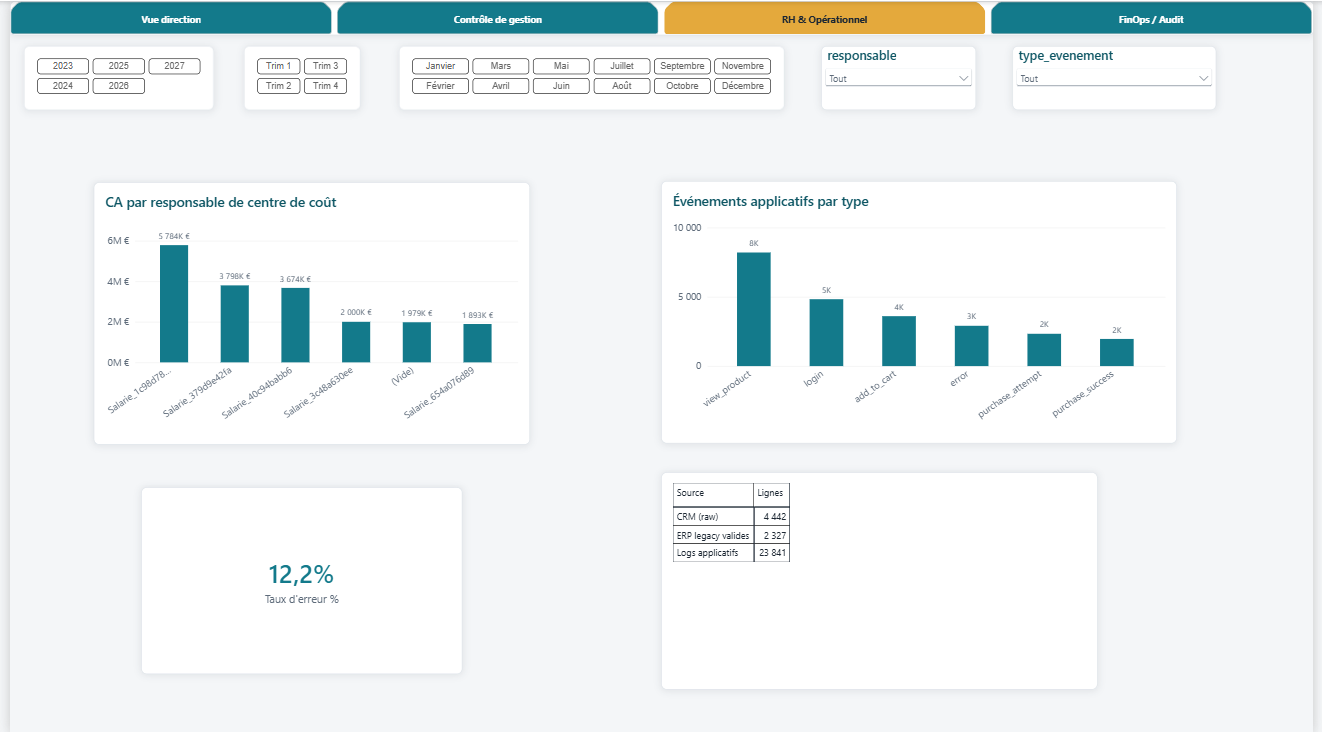

The dashboard page shown, as its layout file describes it:
{"tool":"powerbi","page":{"name":" RH & Opérationnel","canvas":[1920,1080],"ordinal":2},"visuals":[{"type":"ChicletSlicer1448559807354","fields":{"Category":["Dim Date.Calendrier.Année"],"Values":["Min(Dim Date.date)"]},"box":[20,66,280,94],"z":0},{"type":"pageNavigator","box":[0,0,1920,50],"z":1000},{"type":"ChicletSlicer1448559807354","fields":{"Category":["Dim Date.Calendrier.Trimestre"]},"box":[344,66,172,94],"z":2000},{"type":"ChicletSlicer1448559807354","fields":{"Category":["Dim Date.Calendrier.Mois"]},"box":[572,66,568,94],"z":3000},{"type":"clusteredColumnChart","title":"CA par responsable de centre de coût","fields":{"Category":["Dim Centre de coût.responsable"],"Y":["Fct Ventes Réel.CA Réel"]},"box":[124,266,642,386],"z":4000},{"type":"slicer","fields":{"Values":["Dim Centre de coût.responsable"]},"box":[1194,66,228,94],"z":6000},{"type":"slicer","fields":{"Values":["Fct Logs Applicatifs.type_evenement"]},"box":[1476,66,300,94],"z":7000},{"type":"card","fields":{"Values":["Fct Logs Applicatifs.Taux d'erreur %"]},"box":[194.1,716.1,473,275.1],"z":9000},{"type":"clusteredColumnChart","title":"Événements applicatifs par type","fields":{"Category":["Fct Logs Applicatifs.type_evenement"],"Y":["Fct Logs Applicatifs.Nb événements"]},"box":[959.2,265.7,759.5,386.3],"z":11001},{"type":"pivotTable","fields":{"Rows":["Volumétrie Pipeline.Source"],"Values":["Volumétrie Pipeline.Lignes"]},"box":[959.2,693.5,642.6,320.4],"z":11002}]}

Visuals, with their boxes in screenshot pixels (x1, y1, x2, y2), scaled from the page's 1920x1080 canvas onto the 1322x732 screenshot:
ChicletSlicer1448559807354 - Dim Date.Calendrier.Année x Min(Dim Date.date): bbox(14, 45, 207, 108)
pageNavigator: bbox(0, 0, 1321, 34)
ChicletSlicer1448559807354 - Dim Date.Calendrier.Trimestre: bbox(237, 45, 355, 108)
ChicletSlicer1448559807354 - Dim Date.Calendrier.Mois: bbox(394, 45, 785, 108)
"CA par responsable de centre de coût" clusteredColumnChart: bbox(85, 180, 527, 442)
slicer - Dim Centre de coût.responsable: bbox(822, 45, 979, 108)
slicer - Fct Logs Applicatifs.type_evenement: bbox(1016, 45, 1223, 108)
card - Fct Logs Applicatifs.Taux d'erreur %: bbox(134, 485, 459, 672)
"Événements applicatifs par type" clusteredColumnChart: bbox(660, 180, 1183, 442)
pivotTable - Volumétrie Pipeline.Source x Volumétrie Pipeline.Lignes: bbox(660, 470, 1103, 687)
